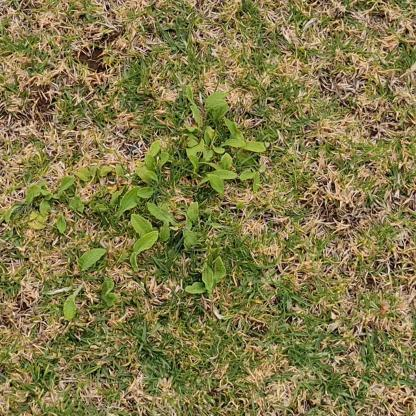Weeds: (4, 85, 269, 321)
